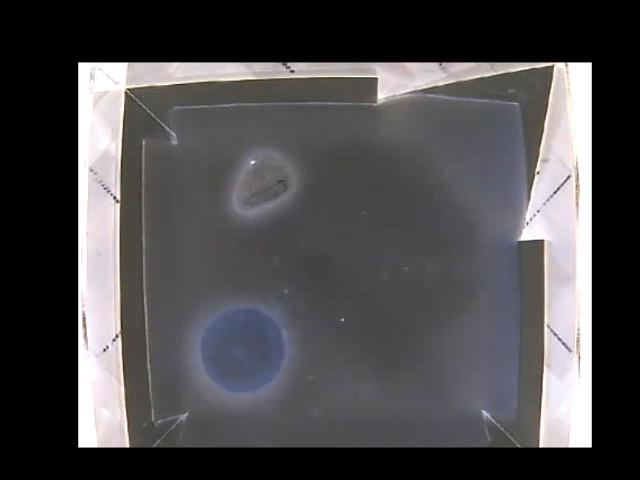Mooli: (202, 307, 286, 394)
Pebble: (233, 145, 293, 215)
